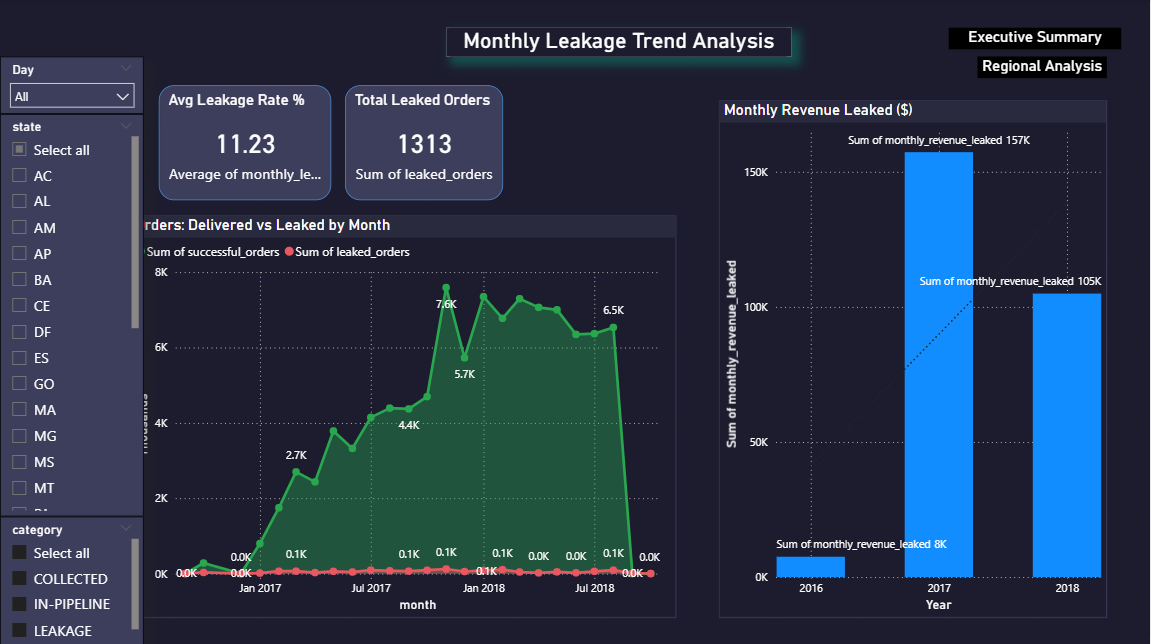

The dashboard page shown, as its layout file describes it:
{"tool":"powerbi","page":{"name":"Monthly Trend","canvas":[1280,720],"ordinal":1},"visuals":[{"type":"lineChart","title":"Orders: Delivered vs Leaked by Month","fields":{"Y":["Sum(orders_payments_202604132001.successful_orders)","Sum(orders_payments_202604132001.leaked_orders)"],"Category":["orders_payments_202604132001.month"]},"box":[176,240,592,384],"z":0},{"type":"clusteredColumnChart","title":"Monthly Revenue Leaked ($)","fields":{"Category":["orders_payments_202604132001.month.Variation.Date Hierarchy.Year","orders_payments_202604132001.month.Variation.Date Hierarchy.Quarter","orders_payments_202604132001.month.Variation.Date Hierarchy.Month","orders_payments_202604132001.month.Variation.Date Hierarchy.Day"],"Y":["Sum(orders_payments_202604132001.monthly_revenue_leaked)"]},"box":[800,128,432,496],"z":1000},{"type":"actionButton","title":"Regional Analysis","box":[1088,64,144,32],"z":2000},{"type":"textbox","title":"Monthly Leakage Trend Analysis","box":[496,32,384,32],"z":3000},{"type":"card","title":"Total Leaked Orders","fields":{"Values":["Sum(orders_payments_202604132001.leaked_orders)"]},"box":[512,96,256,128],"z":4000},{"type":"card","title":"Avg Leakage Rate %","fields":{"Values":["Avg(orders_payments_202604132001.monthly_leakage_rate_pct)"]},"box":[192,96,288,128],"z":5000},{"type":"actionButton","title":"Executive Summary","box":[1088,32,192,32],"z":6000},{"type":"slicer","fields":{"Values":["orders_payments_202604132001.month.Variation.Date Hierarchy.Day"]},"box":[0,64,160,64],"z":7000},{"type":"slicer","fields":{"Values":["orders_customers_payments_202604132146.state"]},"box":[0,128,160,448],"z":8000},{"type":"slicer","fields":{"Values":["revenue_summary_totals_202604132000.category"]},"box":[0,576,160,144],"z":9000},{"type":"textbox","box":[304,640,800,48],"z":10000},{"type":"actionButton","title":"Action Centre","box":[1120,96,112,16],"z":10001}]}

Visuals, with their boxes in screenshot pixels (x1, y1, x2, y2), scaled from the page's 1280x720 canvas onto the 1151x644 screenshot:
"Orders: Delivered vs Leaked by Month" lineChart: 158 215 691 558
"Monthly Revenue Leaked ($)" clusteredColumnChart: 719 114 1108 558
"Regional Analysis" actionButton: 978 57 1108 86
"Monthly Leakage Trend Analysis" textbox: 446 29 791 57
"Total Leaked Orders" card: 460 86 691 200
"Avg Leakage Rate %" card: 173 86 432 200
"Executive Summary" actionButton: 978 29 1150 57
slicer - orders_payments_202604132001.month.Variation.Date Hierarchy.Day: 0 57 144 114
slicer - orders_customers_payments_202604132146.state: 0 114 144 515
slicer - revenue_summary_totals_202604132000.category: 0 515 144 643
textbox: 273 572 993 615
"Action Centre" actionButton: 1007 86 1108 100
